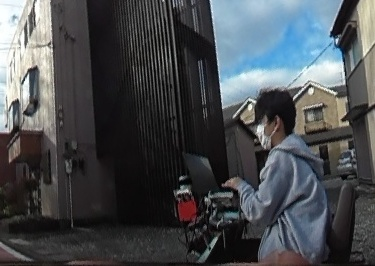person: (235, 89, 331, 266)
